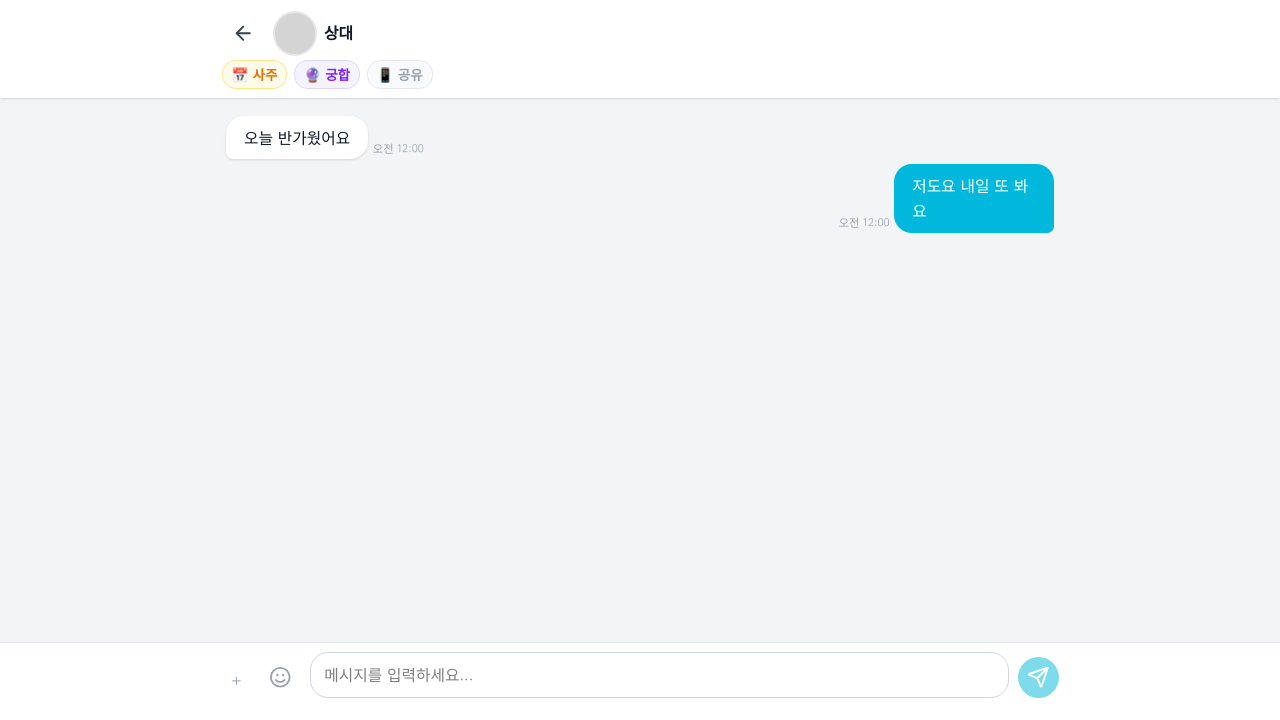
ChatScreen gestures › right-click partner message has reply/copy but no delete
Right-click the text "오늘 반가웠어요" at [325, 138], box x1=226 y1=116 x2=424 y2=159
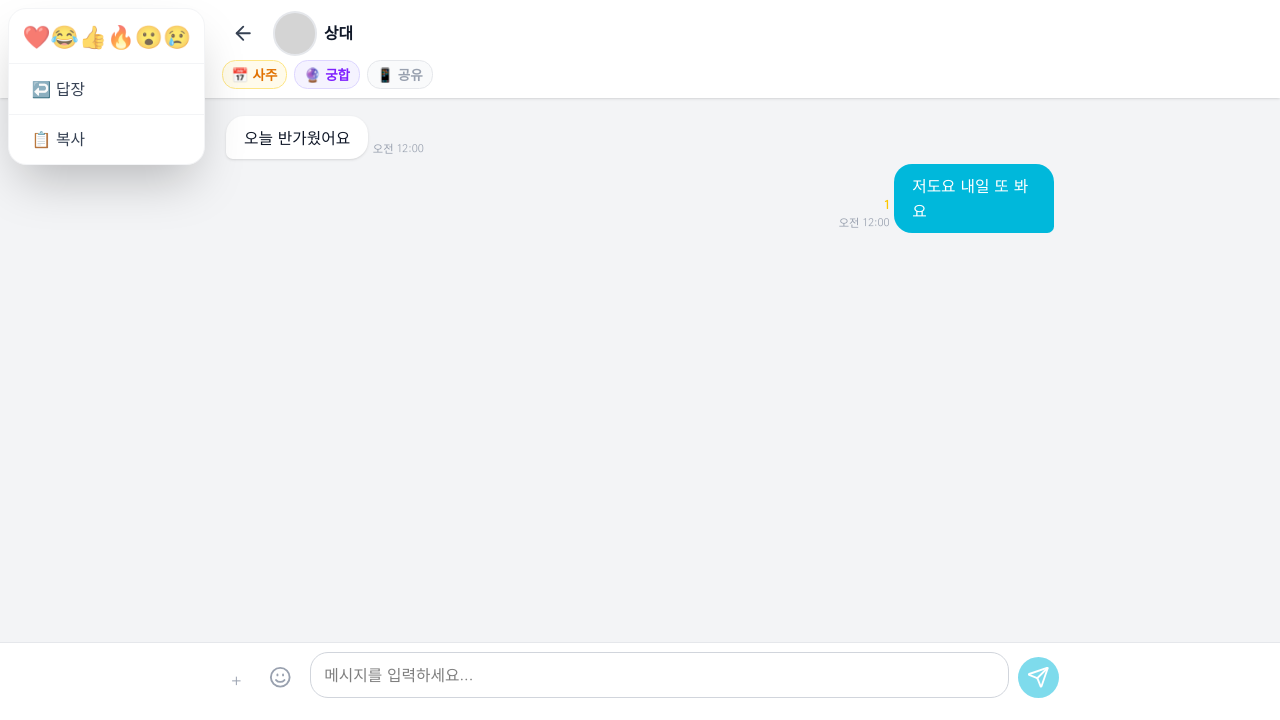
Check: the button "↩️ 답장" is shown, box x1=9 y1=64 x2=204 y2=114
